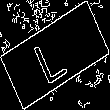L_NW: (34, 25, 76, 85)
